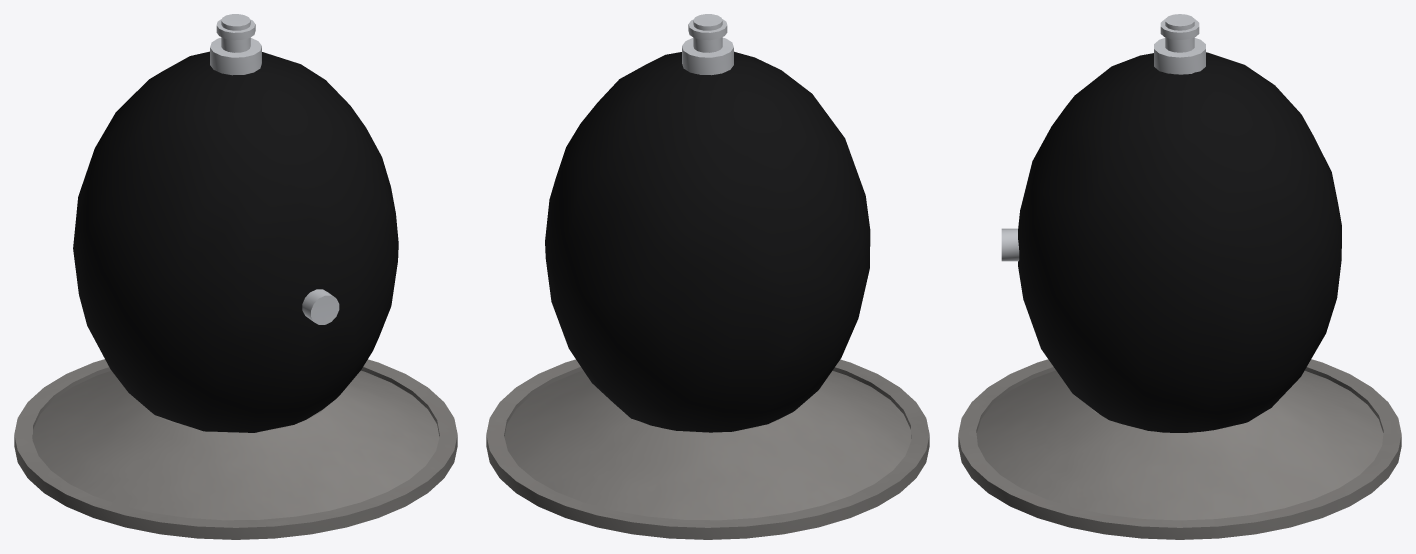
Rendered from tank04_xenon_copv_xs.glb.
3 renders of one model, left to right at view 1: azimuth 30°, elevation 25°; view 2: azimuth 150°, elevation 25°; view 3: azimuth 270°, elevation 25°, orthographic.
Parts seen in each view (by area): view 1: copv, support_skirt, polar_bosses, side_port; view 2: copv, support_skirt, polar_bosses; view 3: copv, support_skirt, polar_bosses, side_port.
Boxes of the visible parts, x1,y1,x2,y2 form: copv: (73, 51, 398, 432); support_skirt: (14, 359, 457, 539); polar_bosses: (210, 14, 261, 75); side_port: (302, 289, 339, 324); copv: (545, 51, 870, 432); support_skirt: (486, 359, 929, 539); polar_bosses: (682, 14, 733, 75); copv: (1018, 52, 1341, 432); support_skirt: (958, 359, 1401, 539); polar_bosses: (1154, 14, 1205, 74); side_port: (1001, 228, 1019, 261).
Bounding box in the file's own units: 0.625 × 0.6628 × 0.625.
3 materials, 2 textured.
